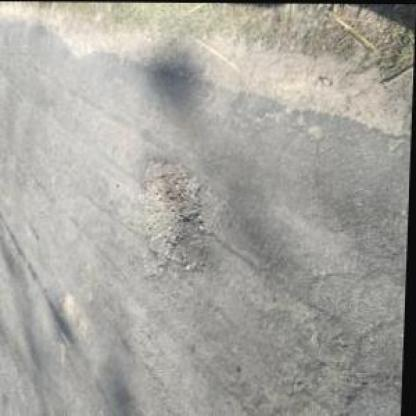pothole: (136, 154, 207, 279)
